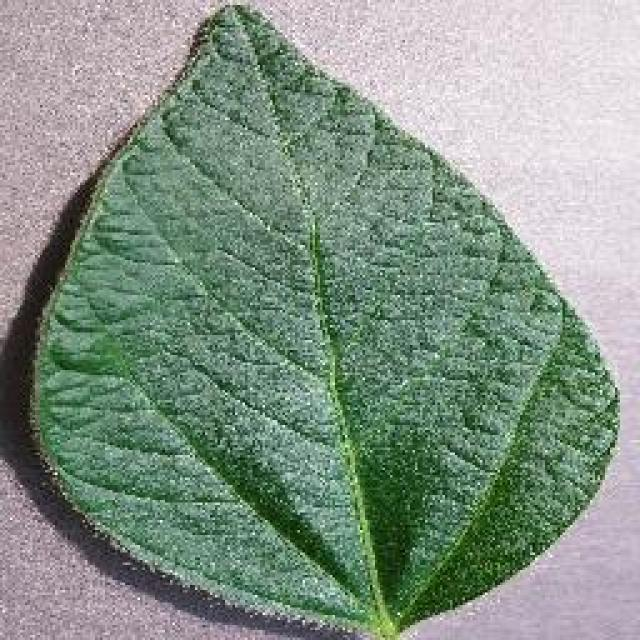Soy_healthy: (48, 50, 584, 600)
